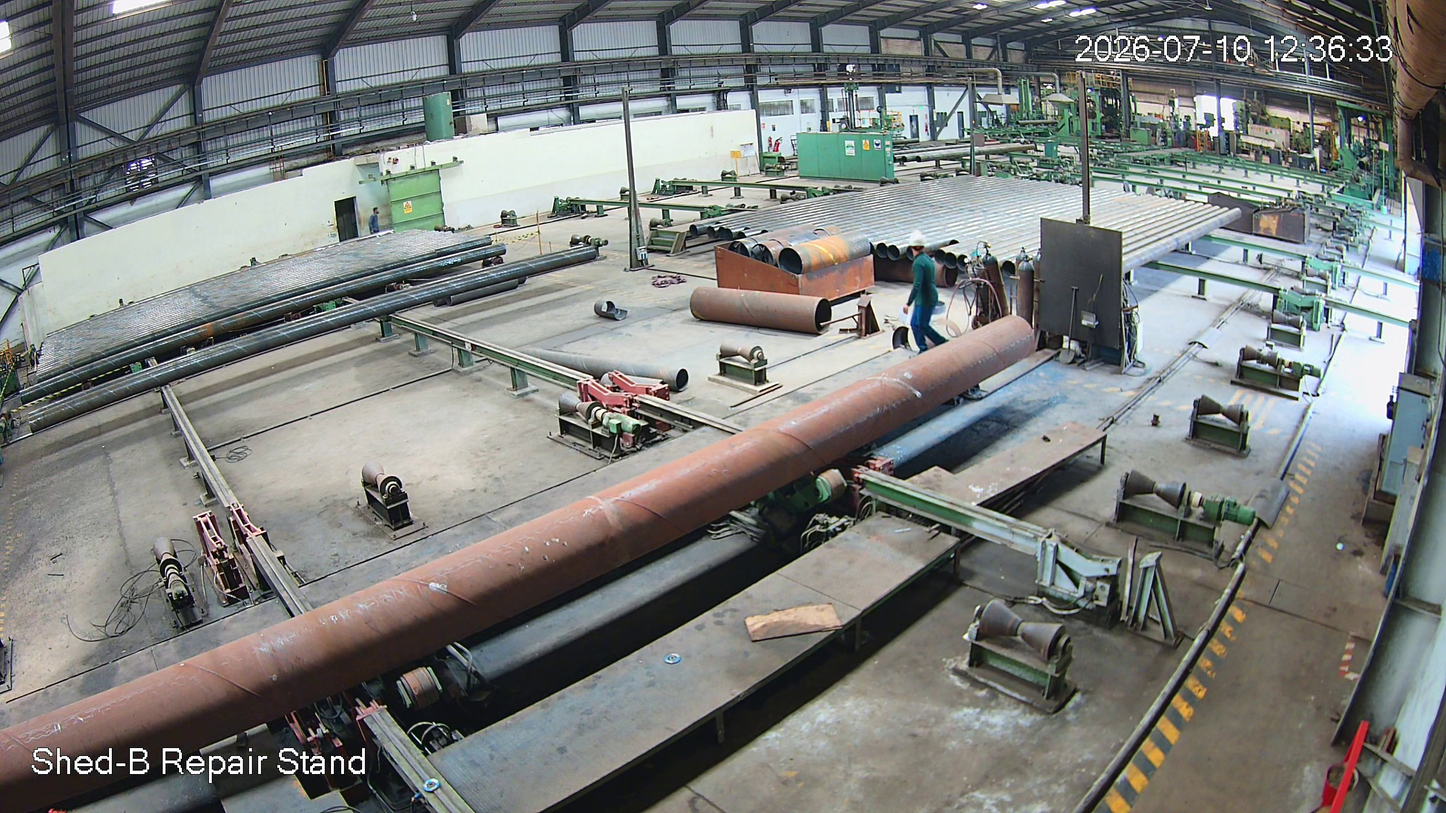Helmet: (901, 226, 931, 260)
Person: (898, 235, 937, 356)
